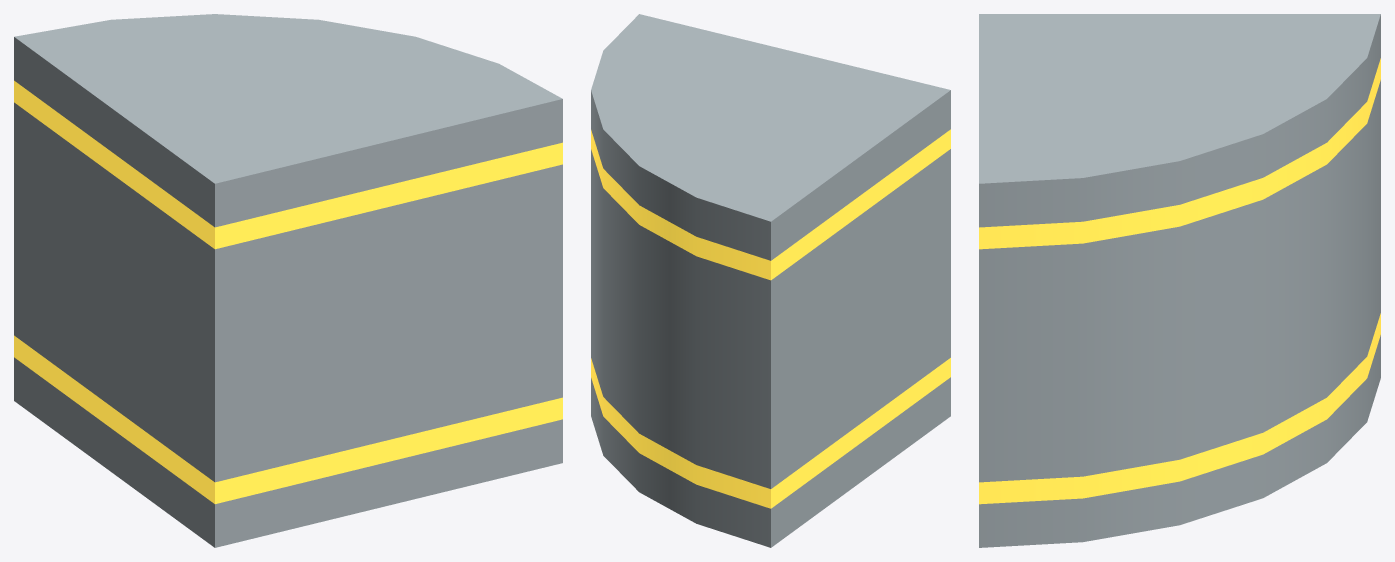
Rendered from SM_90DegreeCorner_v0.fbx.
3 renders of one model, left to right at view 1: azimuth 30°, elevation 25°; view 2: azimuth 150°, elevation 25°; view 3: azimuth 270°, elevation 25°, orthographic. The views are drawn at different scales.
Visible parts, largest first — view 1: SM_90DegreeCorner_v0; view 2: SM_90DegreeCorner_v0; view 3: SM_90DegreeCorner_v0.
Part boxes in pixels (x1,y1,x2,y2): SM_90DegreeCorner_v0: (14, 14, 562, 547); SM_90DegreeCorner_v0: (591, 14, 950, 547); SM_90DegreeCorner_v0: (979, 14, 1380, 547).
Bounding box in the file's own units: 1 × 1 × 1.
